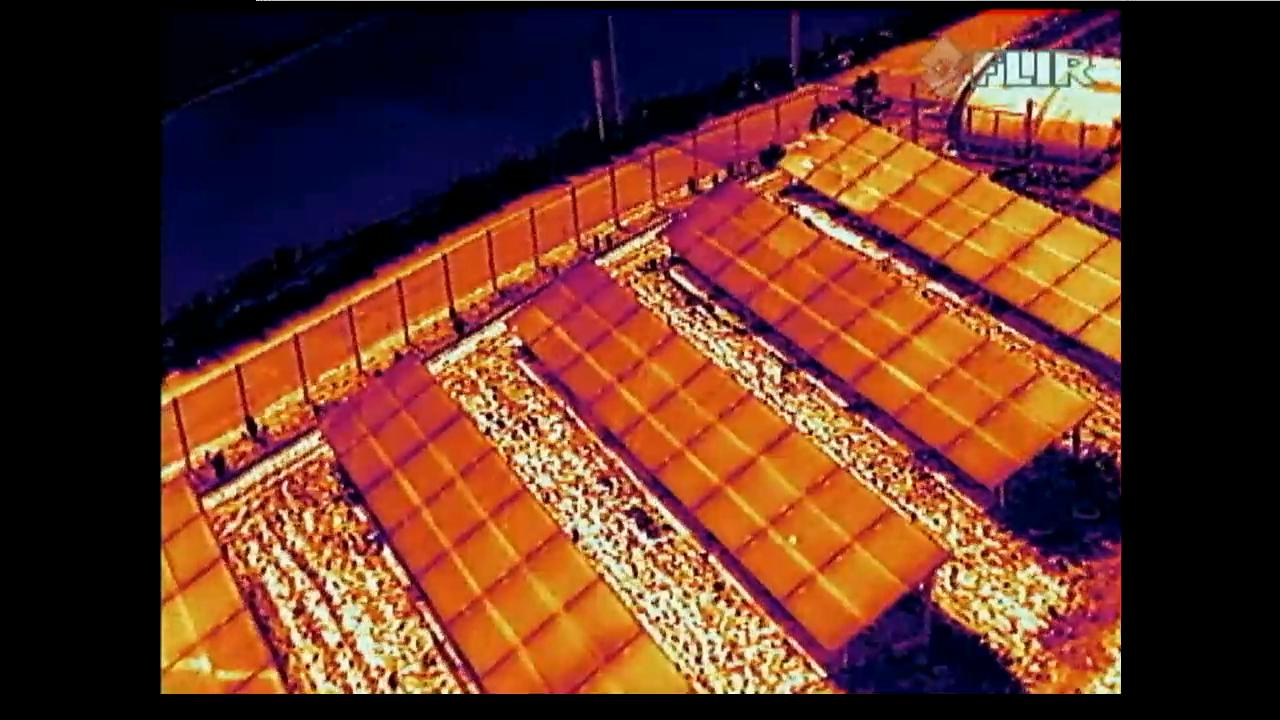hotspot: (735, 471, 890, 601)
